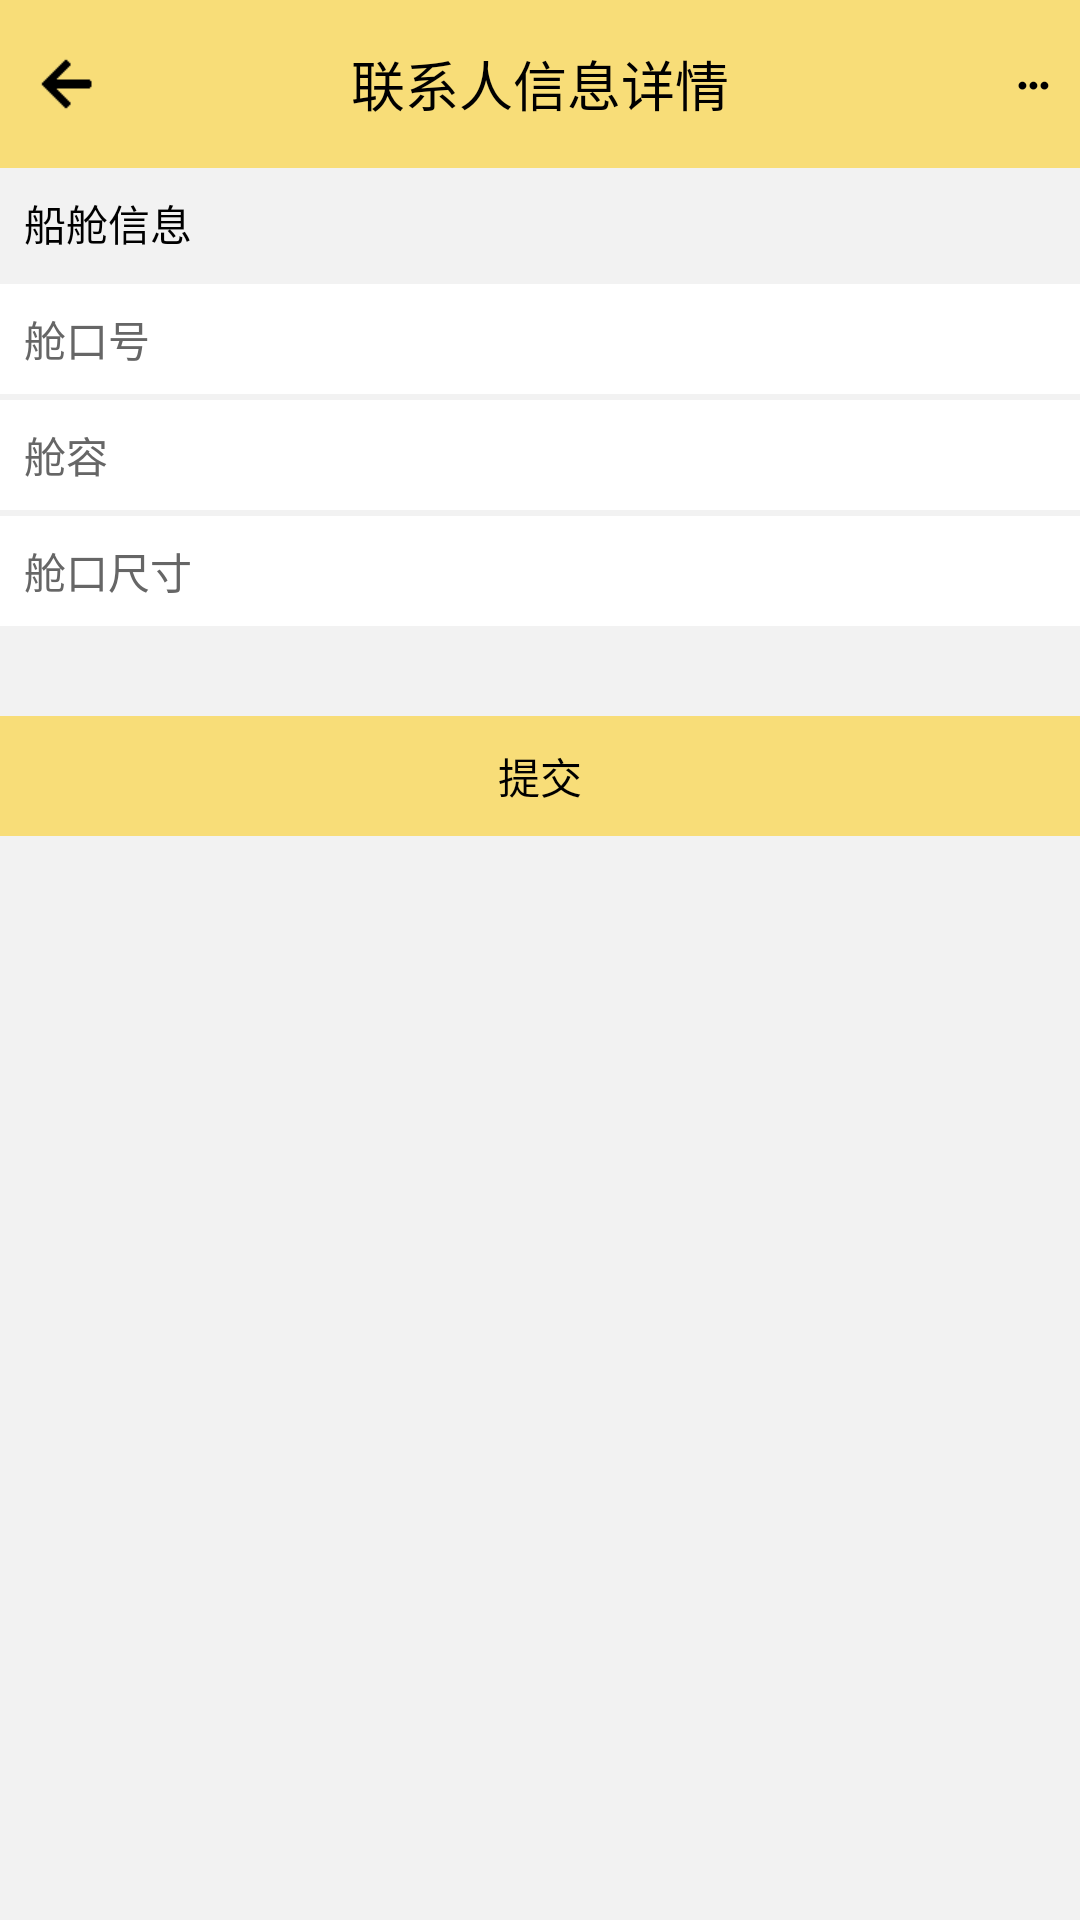

Named icons in this screenshot (1080×1920) and their bounding boxes, (x1, y1, x2, y2):
back: (41, 59, 92, 109)
